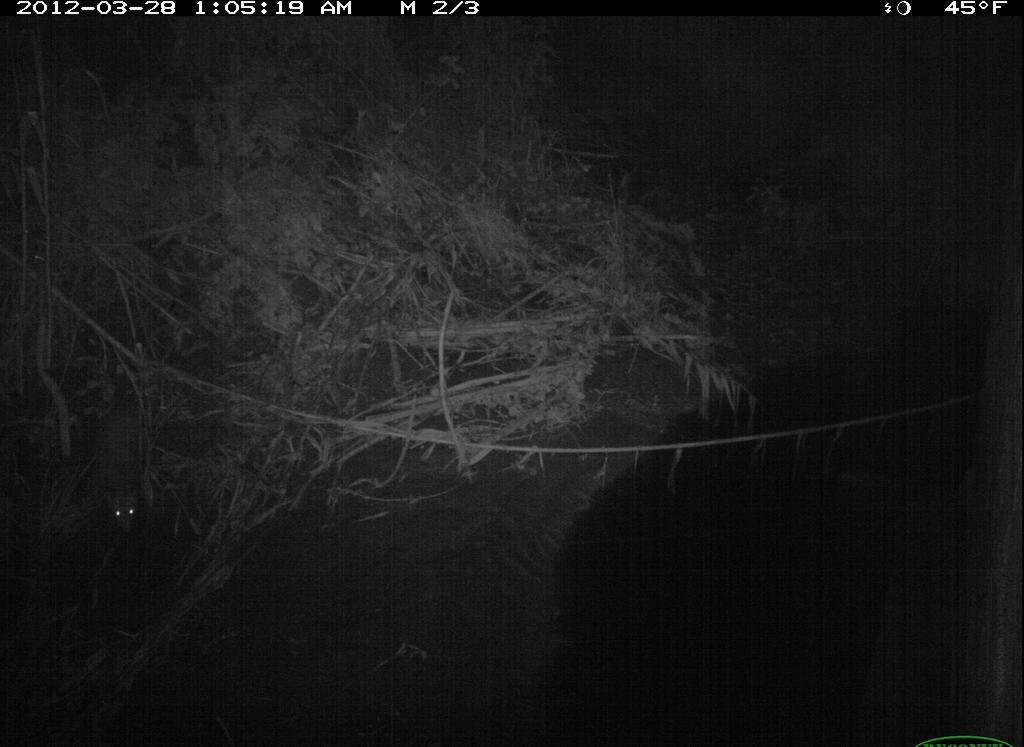opossum: (80, 391, 169, 543)
